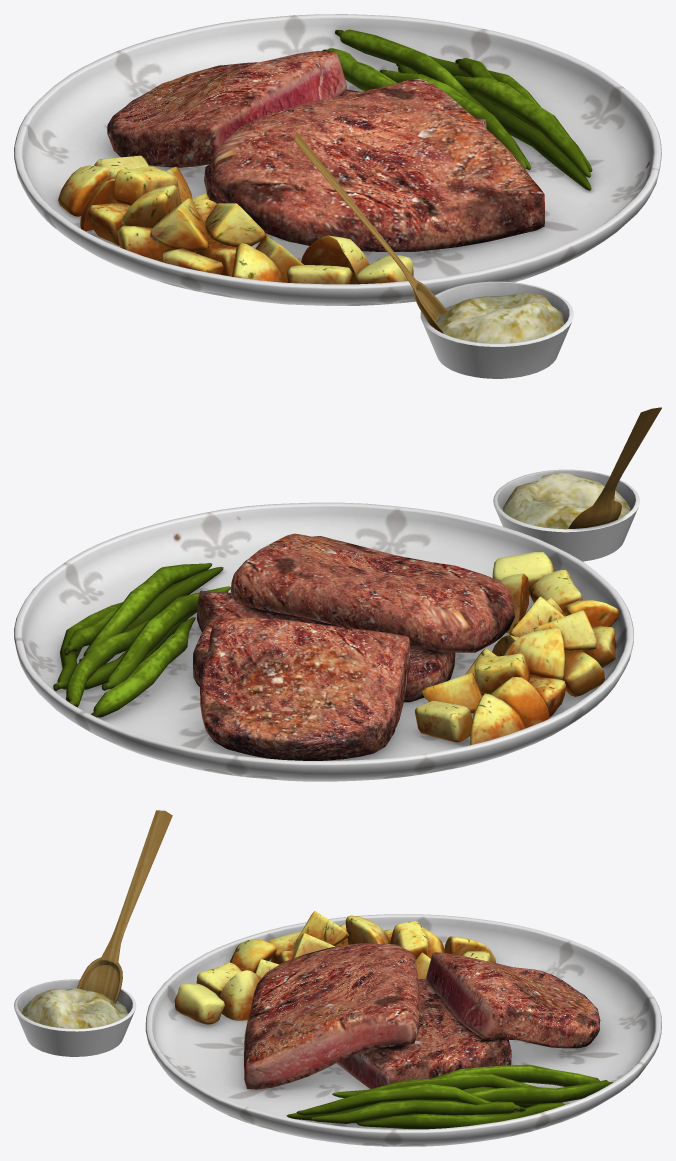
Rendered from food7.glb.
The picture shows the model from 3 angles, top to bottom: view 1: azimuth 30°, elevation 25°; view 2: azimuth 150°, elevation 25°; view 3: azimuth 270°, elevation 25°; orthographic projection. The views are drawn at different scales.
Visible parts, largest first — view 1: steak_plate_Steak_mat_3_0; view 2: steak_plate_Steak_mat_3_0; view 3: steak_plate_Steak_mat_3_0.
Boxes of the visible parts, x1,y1,x2,y2 form: steak_plate_Steak_mat_3_0: (14,14,661,378); steak_plate_Steak_mat_3_0: (14,407,661,781); steak_plate_Steak_mat_3_0: (14,810,661,1146).
Bounding box in the file's own units: 0.2823 × 0.1025 × 0.3544.
1 material, 1 textured.
